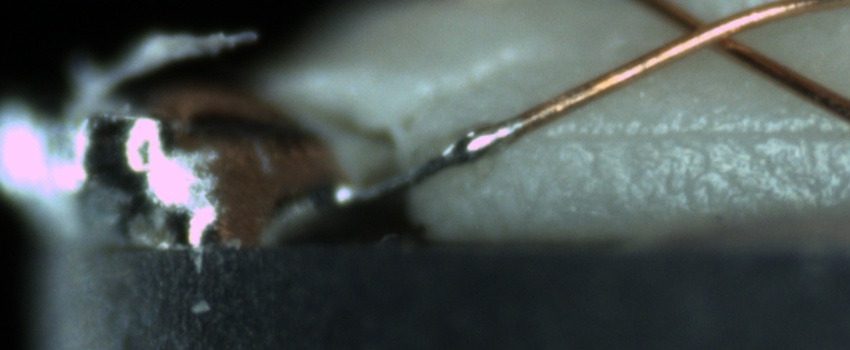CL: (647, 2, 768, 62)
DL: (545, 104, 850, 162)
TB: (446, 121, 500, 166)
TS: (342, 113, 522, 214)
TTCW: (331, 95, 553, 209)
